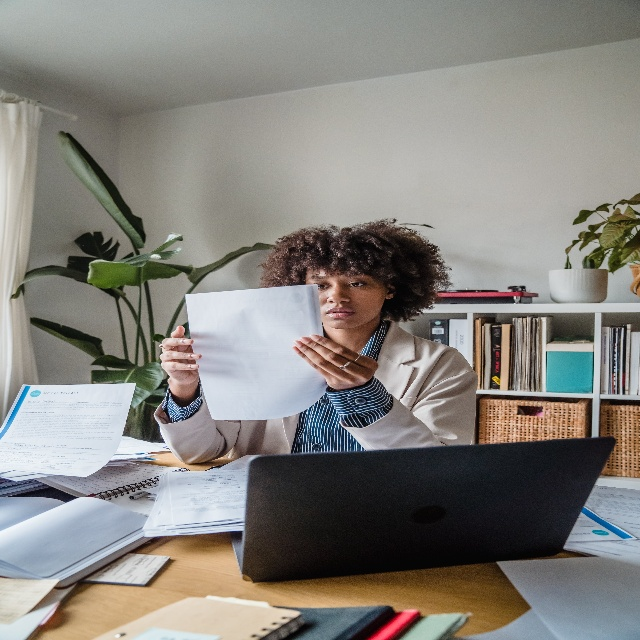Sin_guantes: (291, 329, 380, 391), (159, 324, 202, 386)
